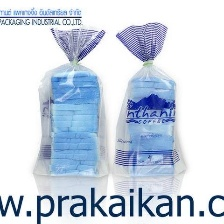snack: (104, 14, 193, 184), (27, 20, 114, 183)
